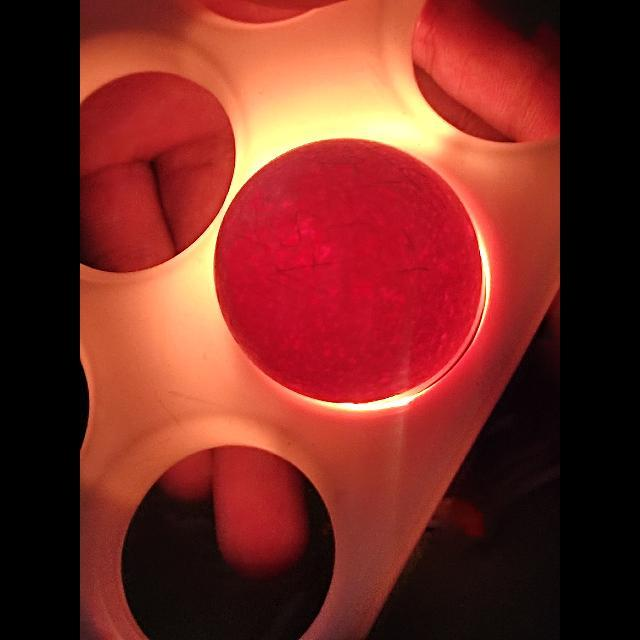Infertile: (216, 134, 489, 410)
